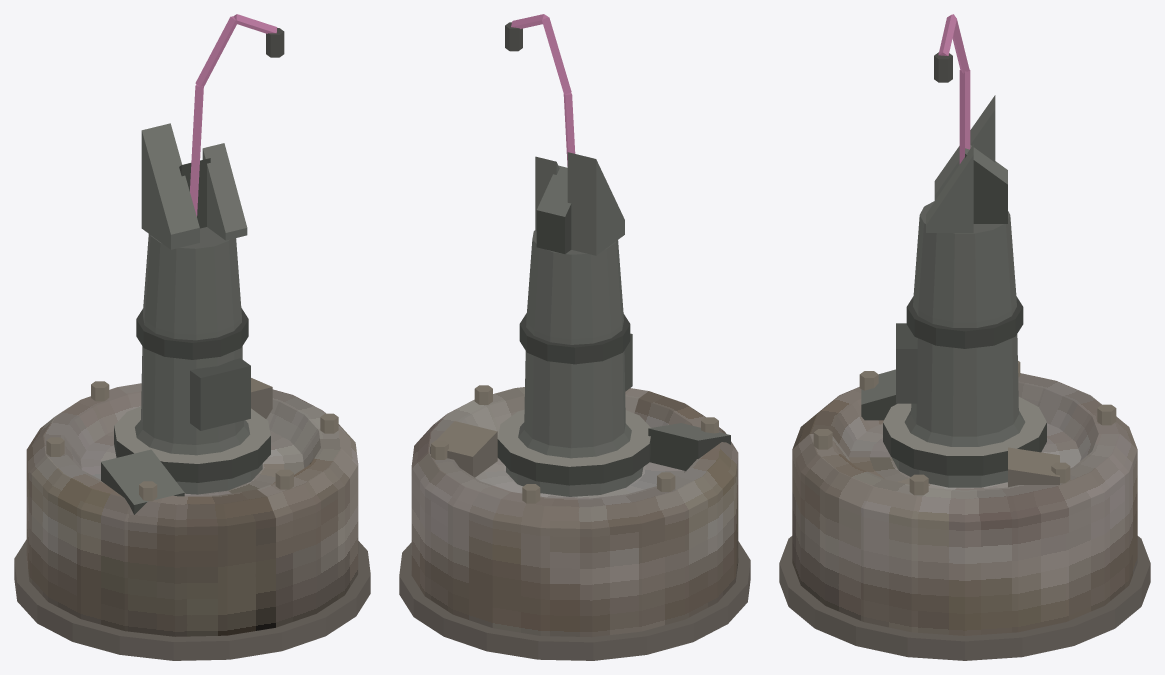
File: Building_AncientLamp__B.glb
3 renders of one model, left to right at view 1: azimuth 30°, elevation 25°; view 2: azimuth 150°, elevation 25°; view 3: azimuth 270°, elevation 25°, orthographic. The views are drawn at different scales.
Visible parts, largest first — view 1: AncientLamp__B; view 2: AncientLamp__B; view 3: AncientLamp__B.
Boxes of the visible parts, x1=… form: AncientLamp__B: x1=14, y1=14, x2=370, y2=660; AncientLamp__B: x1=399, y1=14, x2=750, y2=660; AncientLamp__B: x1=779, y1=14, x2=1150, y2=660.
Bounding box in the file's own units: 0.86 × 1.5 × 0.86.
1 material, 1 textured.
